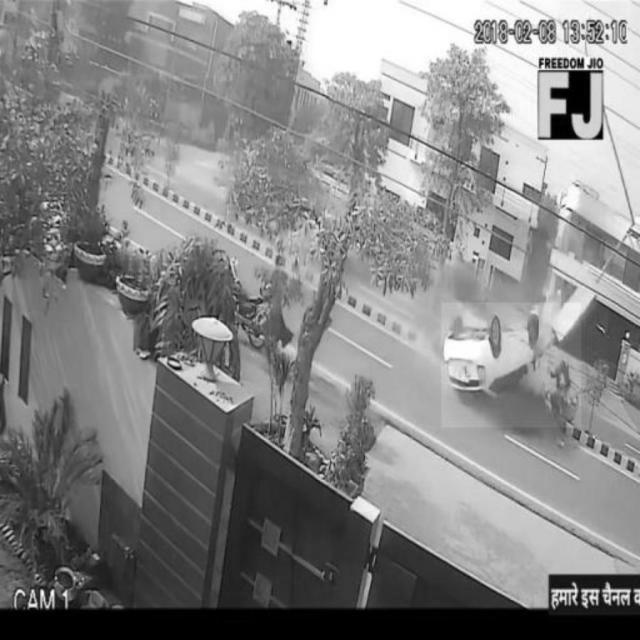accident: (442, 303, 582, 427)
